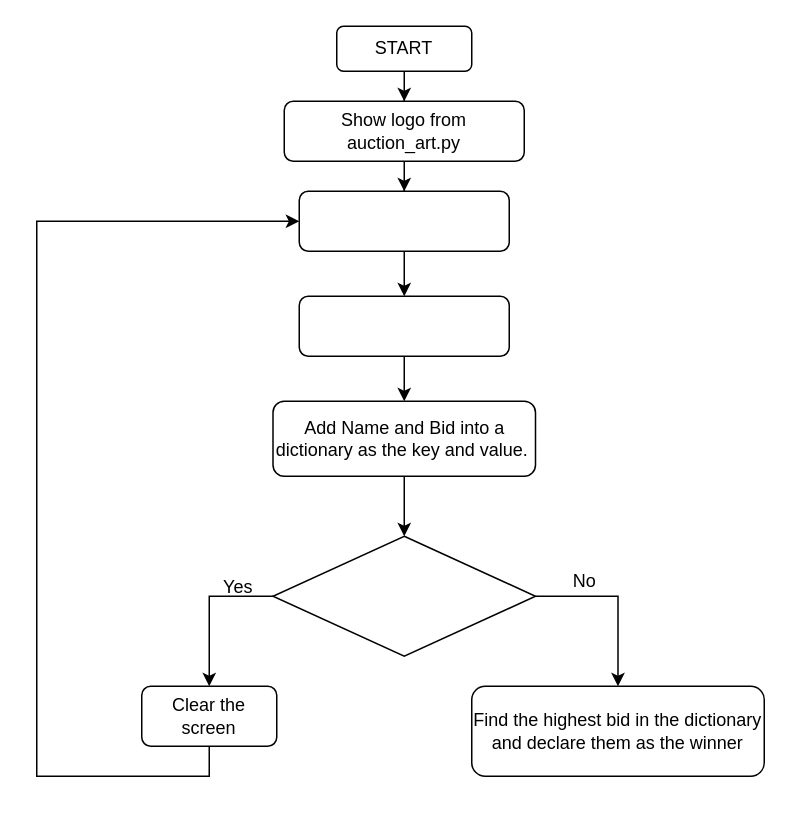
Some shapes in this 791 by 815 pixel diagram are drawn without their labels. The centre of each missing label's shape, as x and y in pixels:
"Ask for Bid Price" goes at pixel 403 325.
"Ask for Name input" goes at pixel 403 220.
"Ask if there are other users who want to bid" goes at pixel 404 595.
